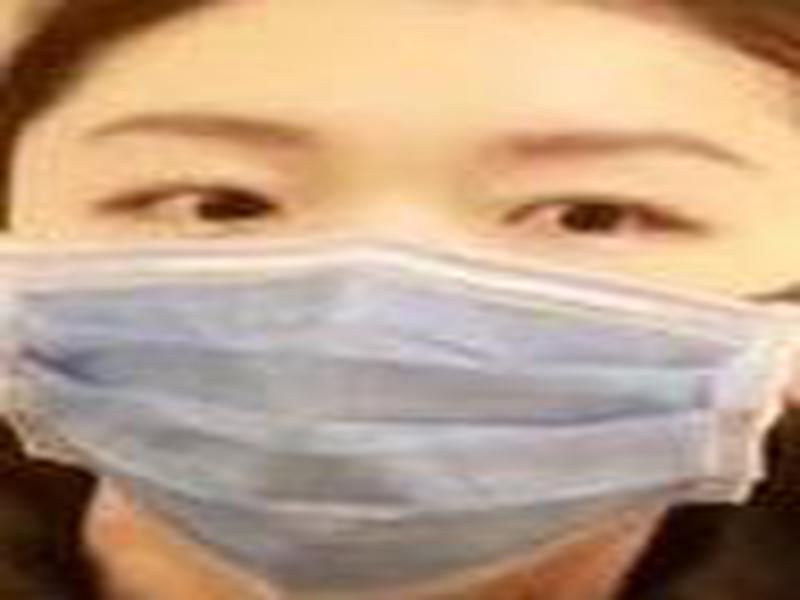with_mask: (1, 1, 799, 600)
